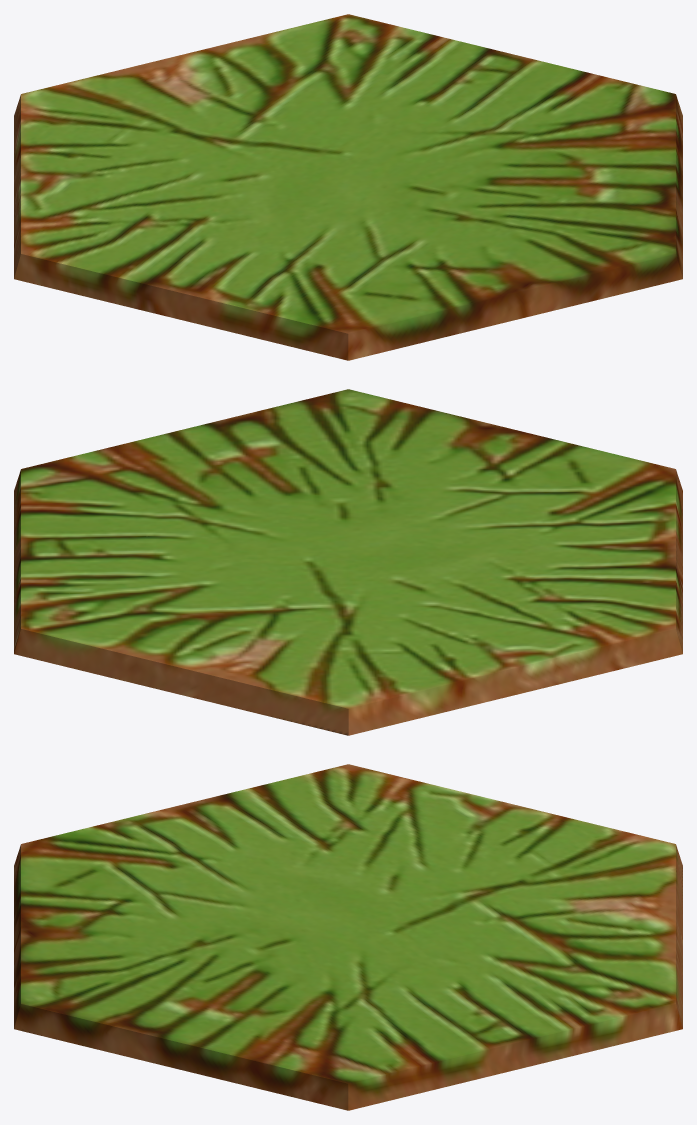
Rendered from grass-cap-leafit.glb.
3 renders of one model, top to bottom at view 1: azimuth 30°, elevation 25°; view 2: azimuth 150°, elevation 25°; view 3: azimuth 270°, elevation 25°, orthographic.
Visible parts, largest first — view 1: GrassCapLeafit; view 2: GrassCapLeafit; view 3: GrassCapLeafit.
Part boxes in pixels (box(x1,y1,x2,y2)): GrassCapLeafit: box(14, 14, 682, 360); GrassCapLeafit: box(14, 389, 682, 735); GrassCapLeafit: box(14, 764, 682, 1110).
Size of the model in its own units: 1.75 by 0.0591 by 1.52.
1 material, 1 textured.
